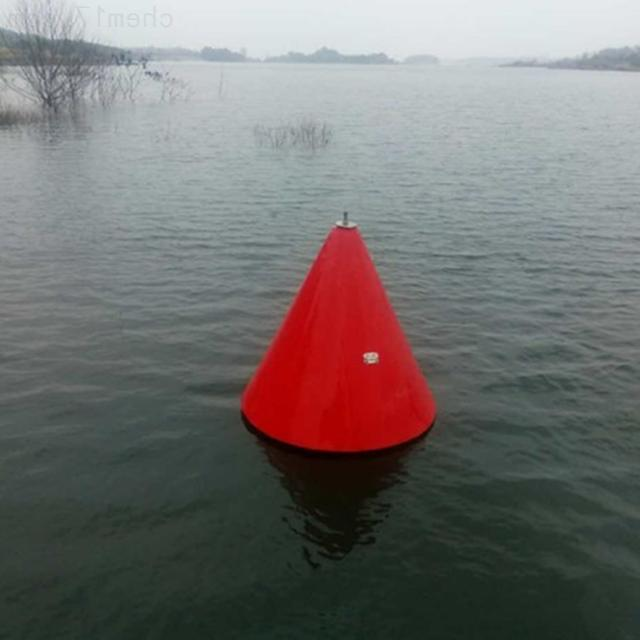buoy: (242, 206, 442, 453)
